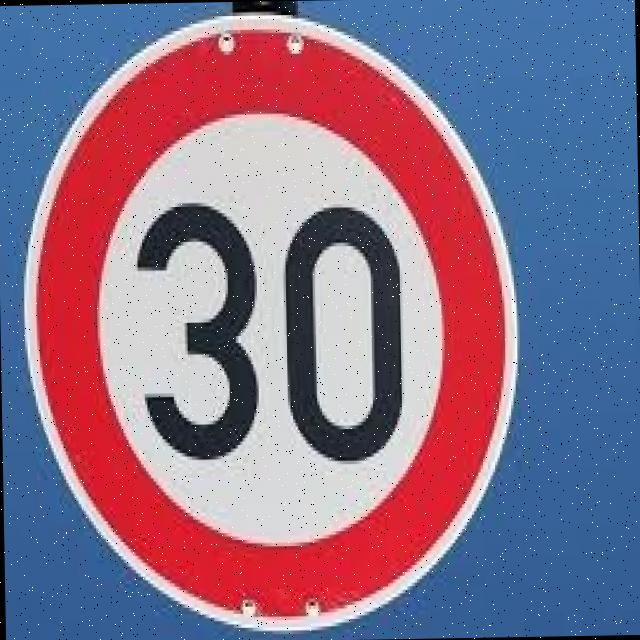speed_limit_30: (11, 7, 524, 640)
